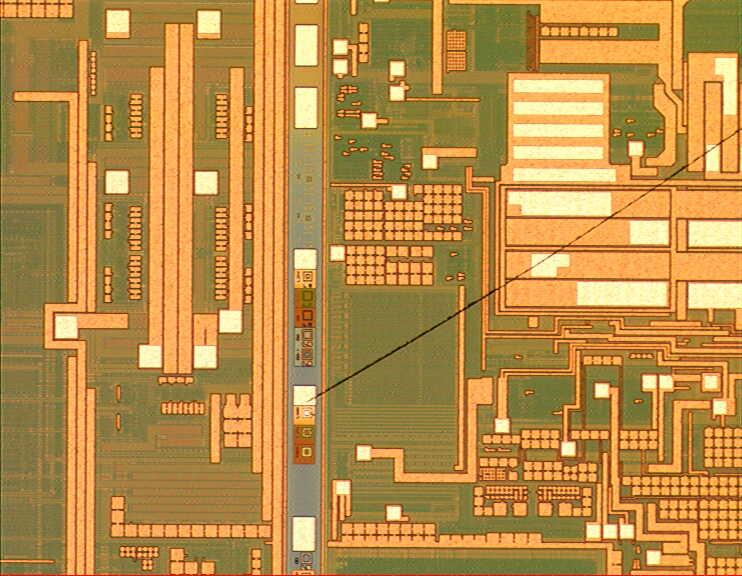SCRATCH: (298, 120, 742, 414)
